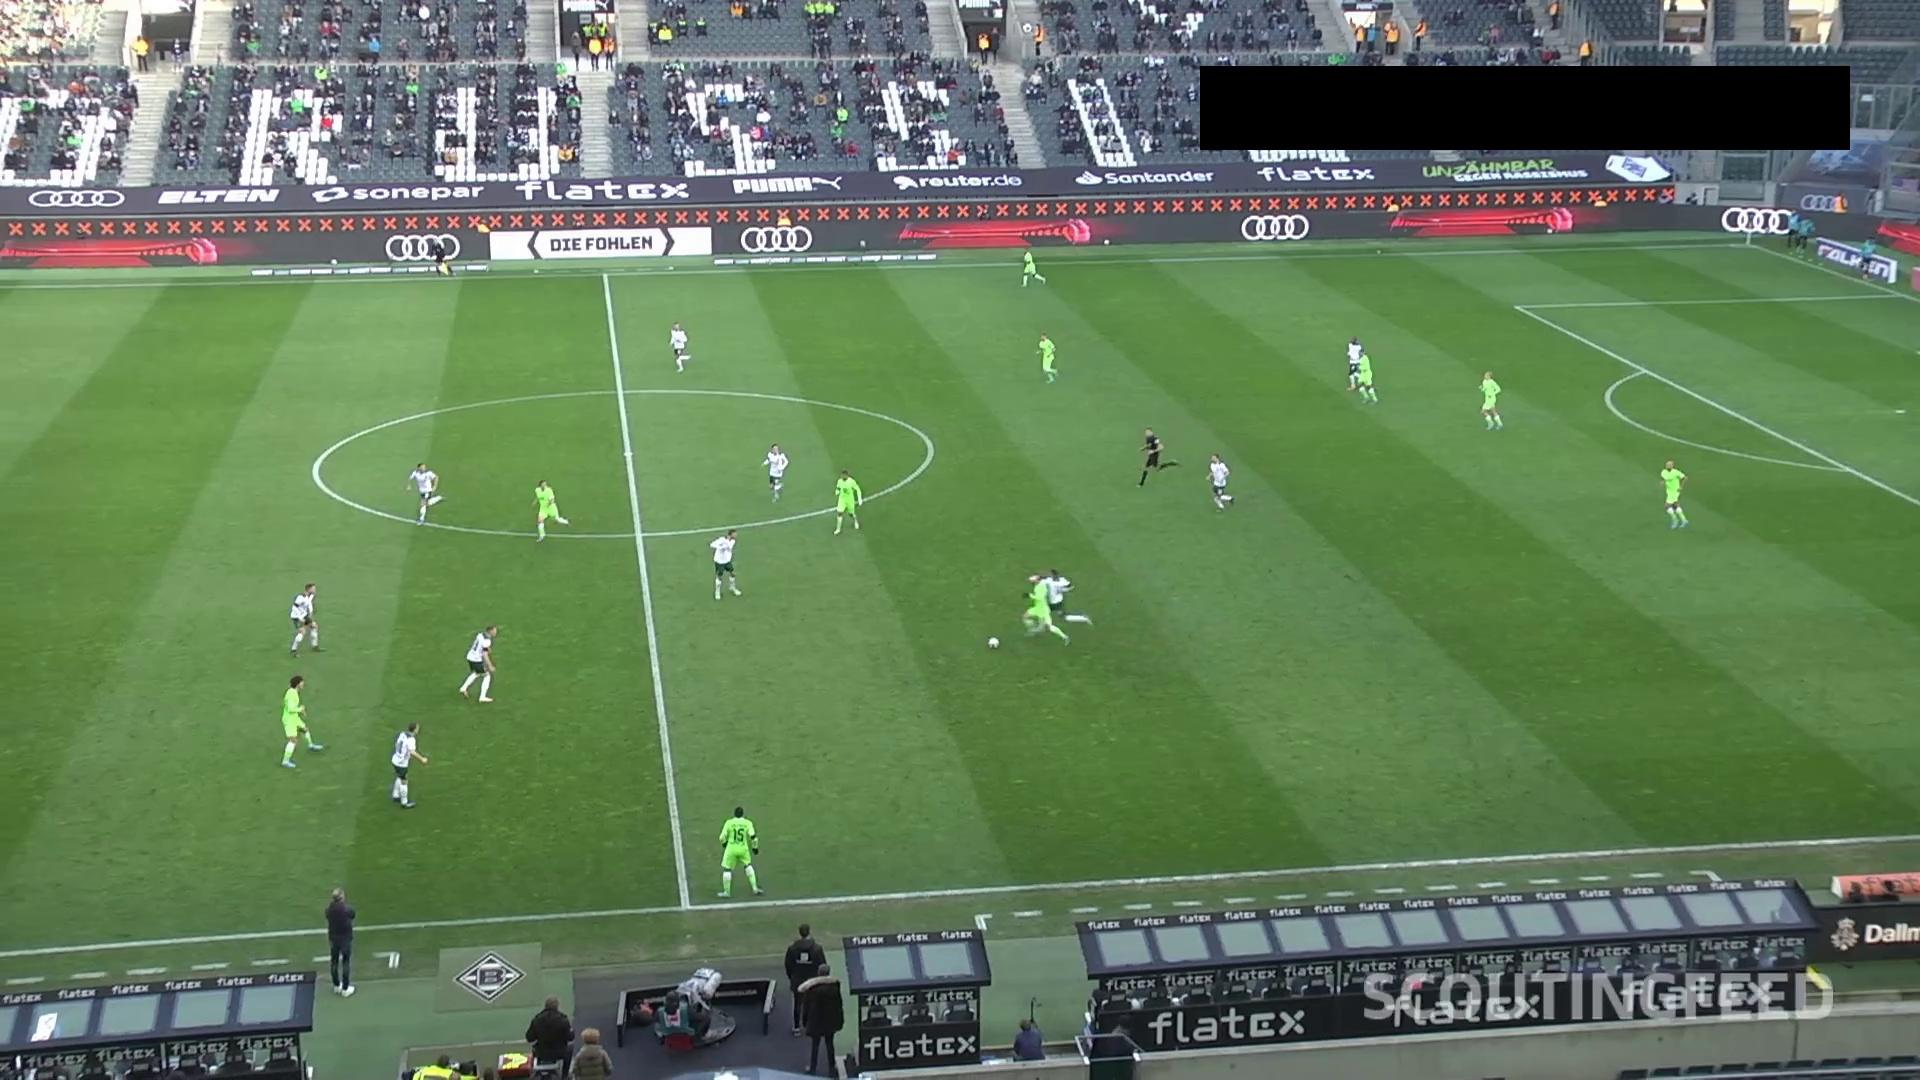Location-of-ball: (982, 633, 1004, 650)
